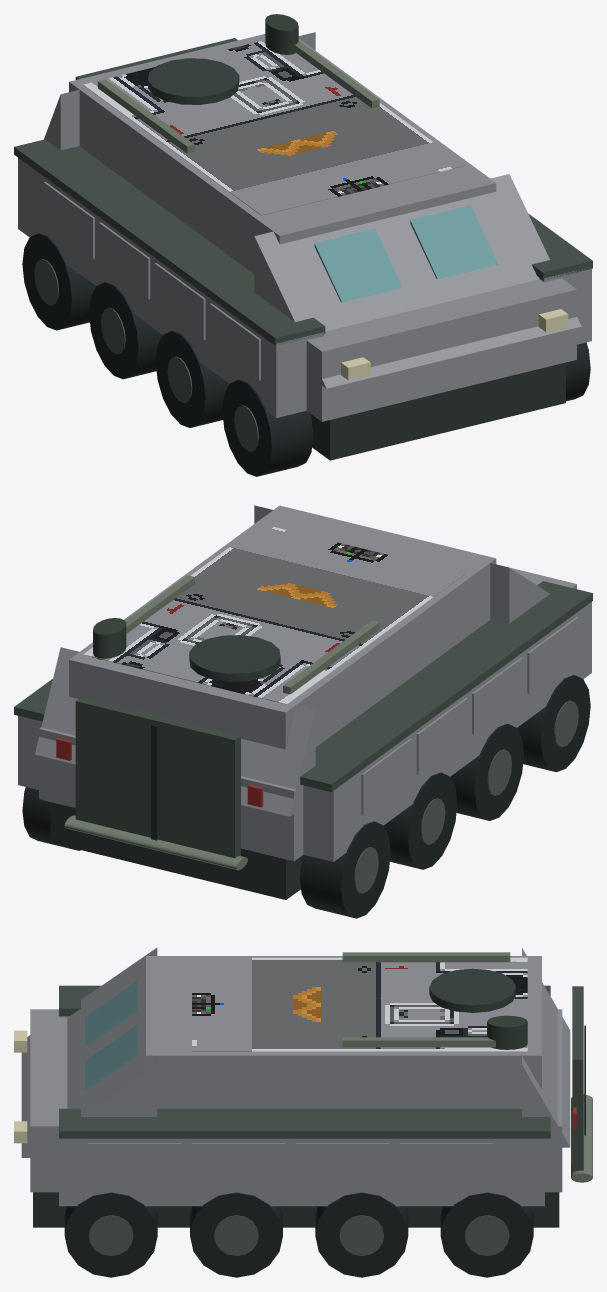
Rendered from CMU3DReduxVehicleAPCPMC.glb.
3 views of the same model, one above another, from view 1: azimuth 30°, elevation 25°; view 2: azimuth 150°, elevation 25°; view 3: azimuth 270°, elevation 25° (orthographic). The views are drawn at different scales.
Parts seen in each view (by area): view 1: source compartment roof, upper troop compartment, sloped front armor, lower personnel hull, rubber road tire (×5), upper fender (×2), side sponson (×2), sealed armored belly, side armor plate (×4), driver vision glass (×2), rear service hatch, recessed metal wheel hub (×4) (+4 smaller); view 2: source compartment roof, upper troop compartment, rear access ramp, rubber road tire (×5), upper fender (×2), side sponson (×2), side armor plate (×4), rear sloped armor, sealed armored belly, lower personnel hull, rear service hatch, recessed metal wheel hub (×4) (+5 smaller); view 3: upper troop compartment, source compartment roof, rubber road tire (×4), side sponson, upper fender (×2), side armor plate (×4), sloped front armor, lower personnel hull, recessed metal wheel hub (×4), rear sloped armor, sealed armored belly, roof handrail (×2) (+5 smaller).
Boxes of the visible parts, box(x1,y1,x2,y2) form: source compartment roof: box(83, 40, 465, 215); upper troop compartment: box(69, 34, 496, 273); sloped front armor: box(254, 174, 581, 388); lower personnel hull: box(306, 278, 576, 421); rubber road tire (×5): box(22, 233, 590, 476); upper fender (×2): box(14, 139, 592, 345); side sponson (×2): box(18, 158, 591, 417); sealed armored belly: box(310, 362, 565, 460); side armor plate (×4): box(43, 182, 260, 380); driver vision glass (×2): box(314, 205, 498, 302); rear service hatch: box(148, 58, 239, 104); recessed metal wheel hub (×4): box(34, 259, 258, 451); source compartment roof: box(83, 524, 465, 704); upper troop compartment: box(69, 505, 496, 749); rear access ramp: box(75, 697, 240, 858); rubber road tire (×5): box(22, 675, 590, 918); upper fender (×2): box(14, 581, 592, 791); side sponson (×2): box(18, 602, 591, 861); side armor plate (×4): box(361, 617, 578, 815); rear sloped armor: box(35, 647, 315, 816); sealed armored belly: box(50, 802, 302, 899); lower personnel hull: box(39, 567, 576, 861); rear service hatch: box(189, 635, 280, 681); recessed metal wheel hub (×4): box(354, 700, 578, 893); upper troop compartment: box(146, 956, 541, 1108); source compartment roof: box(192, 957, 527, 1051); rubber road tire (×4): box(64, 1192, 533, 1277); side sponson: box(59, 1138, 544, 1206); upper fender (×2): box(59, 985, 550, 1138); side armor plate (×4): box(88, 1143, 492, 1181); sloped front armor: box(21, 947, 157, 1157); lower personnel hull: box(30, 1009, 562, 1192); recessed metal wheel hub (×4): box(88, 1215, 509, 1255); rear sloped armor: box(522, 948, 570, 1147); sealed armored belly: box(33, 1192, 559, 1227); roof handrail (×2): box(342, 952, 510, 1047).
Bounding box in the file's own units: 2.39 × 1.69 × 3.97.
Materials: 15 (1 with a texture image).
